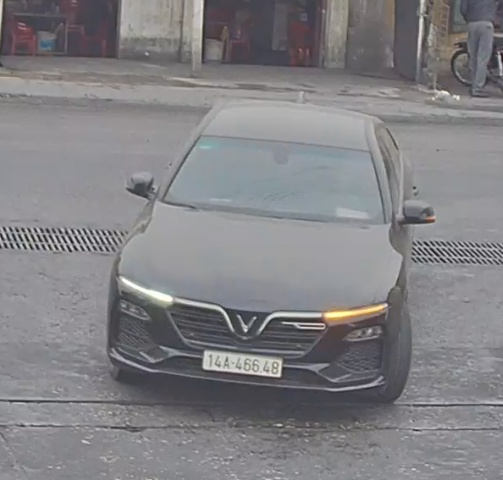vehicle plate: (203, 346, 293, 381)
